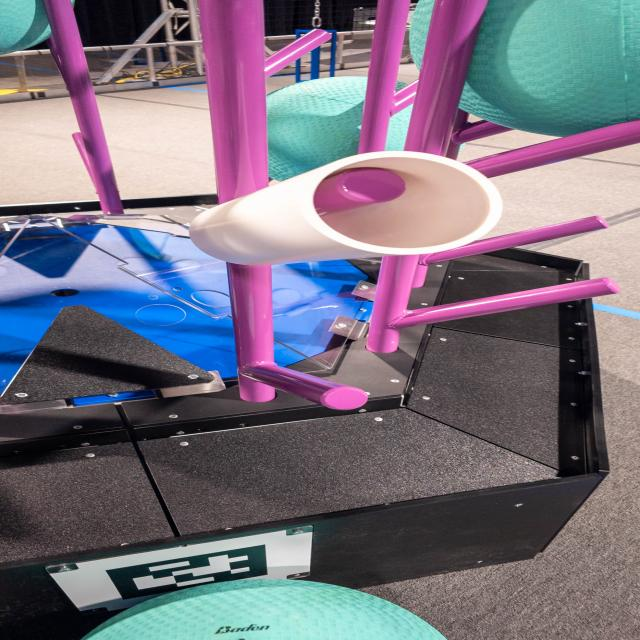Algae: (409, 0, 639, 138), (84, 579, 450, 640), (268, 76, 417, 183), (0, 0, 77, 57)
Coral: (187, 152, 500, 266)
